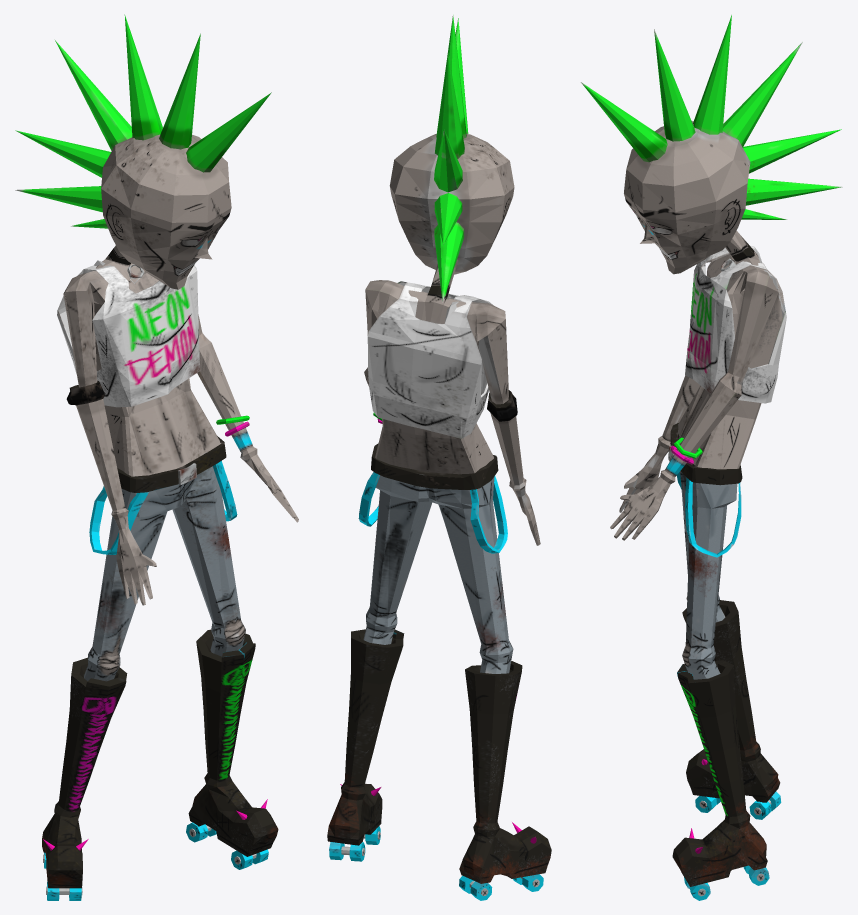
Rendered from punkAnimation_000007.obj.
3 renders of one model, left to right at view 1: azimuth 30°, elevation 25°; view 2: azimuth 150°, elevation 25°; view 3: azimuth 270°, elevation 25°, orthographic. The views are drawn at different scales.
Visible parts, largest first — view 1: Cube.004_Cube.003; view 2: Cube.004_Cube.003; view 3: Cube.004_Cube.003.
Boxes of the visible parts, x1,y1,x2,y2 form: Cube.004_Cube.003: (15,14,298,900); Cube.004_Cube.003: (327,15,551,900); Cube.004_Cube.003: (581,15,842,900).
Bounding box in the file's own units: 1.99 × 7.49 × 2.15.
